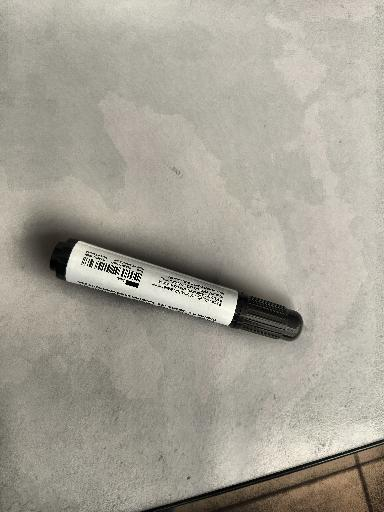marcador negro: (50, 239, 303, 340)
